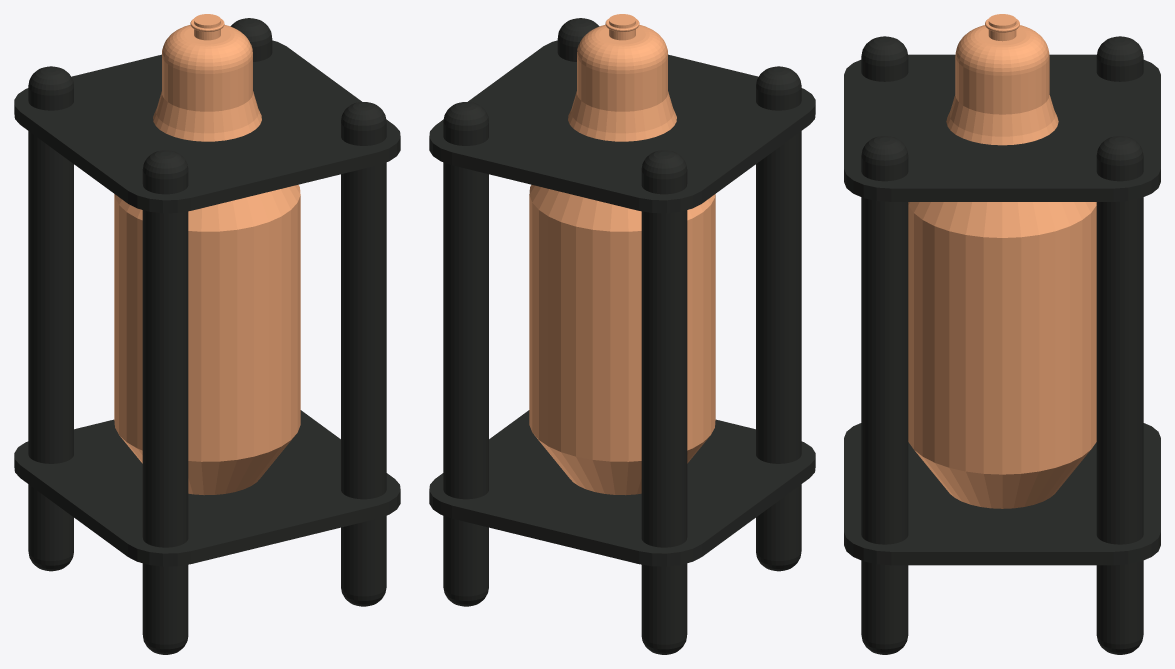
The model's file is reg.obj.
3 views of the same model, side by side, from view 1: azimuth 30°, elevation 25°; view 2: azimuth 150°, elevation 25°; view 3: azimuth 270°, elevation 25° (orthographic). The views are drawn at different scales.
Visible parts, largest first — view 1: Цилиндр.004, Куб, Куб.001, Цилиндр.003, Цилиндр.002, Цилиндр.001, Цилиндр; view 2: Цилиндр.004, Куб, Куб.001, Цилиндр.001, Цилиндр, Цилиндр.003, Цилиндр.002; view 3: Цилиндр.004, Куб, Цилиндр, Цилиндр.002, Куб.001, Цилиндр.001, Цилиндр.003.
Boxes of the visible parts, box(x1,y1,x2,y2) form: Цилиндр.004: box(114, 14, 300, 495); Куб: box(14, 40, 400, 213); Куб.001: box(14, 410, 400, 566); Цилиндр.003: box(142, 150, 188, 654); Цилиндр.002: box(341, 102, 386, 606); Цилиндр.001: box(28, 66, 73, 571); Цилиндр: box(230, 18, 272, 61); Цилиндр.004: box(529, 14, 715, 495); Куб: box(429, 40, 815, 213); Куб.001: box(429, 410, 815, 566); Цилиндр.001: box(641, 150, 687, 654); Цилиндр: box(443, 102, 488, 606); Цилиндр.003: box(756, 66, 801, 571); Цилиндр.002: box(557, 18, 599, 61); Цилиндр.004: box(908, 14, 1096, 508); Куб: box(844, 54, 1160, 201); Цилиндр: box(1096, 136, 1143, 654); Цилиндр.002: box(861, 136, 908, 654); Куб.001: box(844, 423, 1160, 565); Цилиндр.001: box(1096, 36, 1143, 81); Цилиндр.003: box(861, 36, 908, 81).
Bounding box in the file's own units: 6.74 × 13.64 × 6.74.
